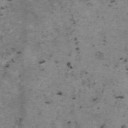oxide scale of temperature system: (66, 36, 88, 74), (4, 46, 22, 68), (72, 96, 98, 109), (0, 0, 14, 16), (45, 91, 62, 104), (100, 122, 126, 128), (14, 118, 25, 128), (114, 94, 125, 100), (70, 14, 76, 24), (120, 57, 128, 62), (38, 60, 46, 64), (66, 120, 71, 124), (110, 0, 116, 3)
